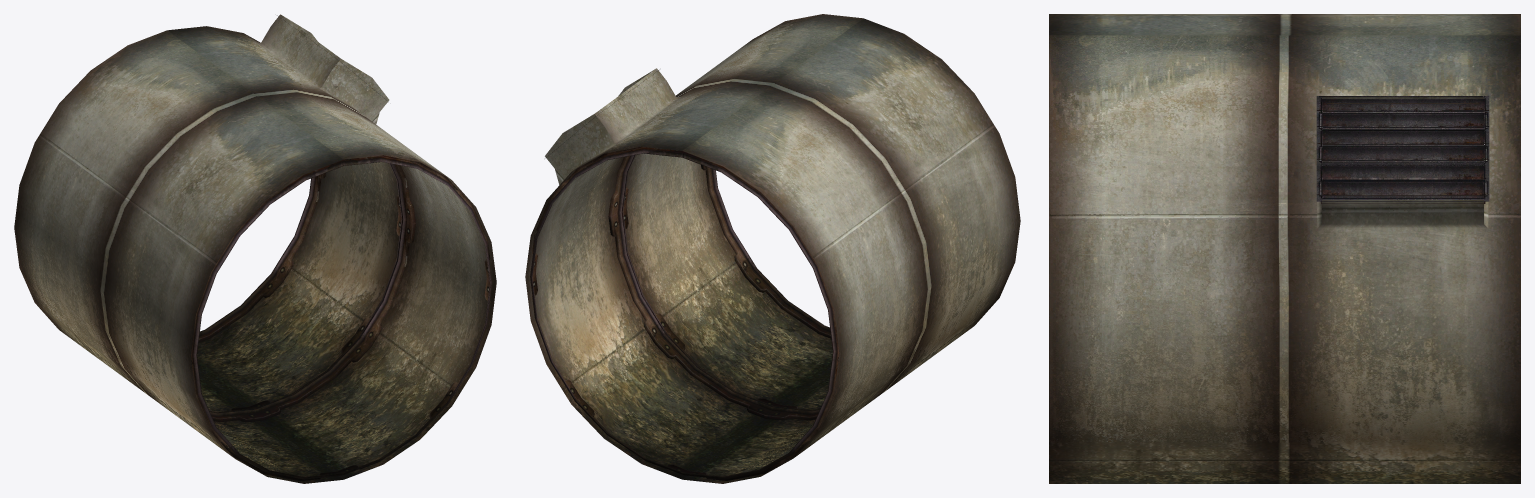
File: flush_tunnel_02_07_straight_short_vent.dae
The picture shows the model from 3 angles, left to right: view 1: azimuth 30°, elevation 25°; view 2: azimuth 150°, elevation 25°; view 3: azimuth 270°, elevation 25°; orthographic projection. The views are drawn at different scales.
Visible parts, largest first — view 1: polySurface612; view 2: polySurface612; view 3: polySurface612, pPlane1.
Part boxes in pixels (x1,y1,x2,y2): polySurface612: [14, 14, 496, 483]; polySurface612: [525, 14, 1020, 483]; polySurface612: [1049, 14, 1520, 483]; pPlane1: [1316, 96, 1489, 201].
Bounding box in the file's own units: 4 × 4.02 × 4.
2 materials, 2 textured.
